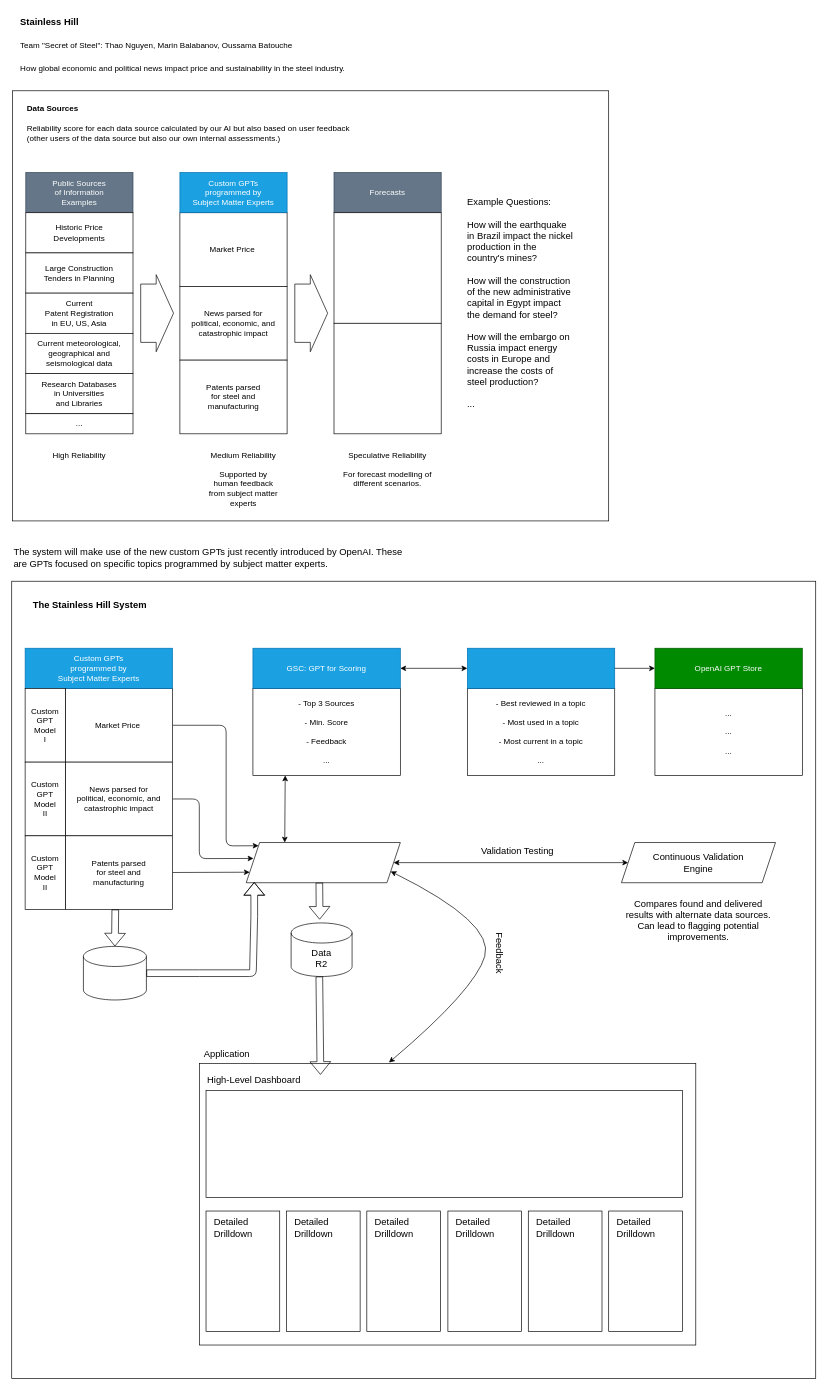
Image size: 827x1390. Some labels were removed from this diagram. The shapes that lost their labels are listed below. From the top down, each one's centre as x and y in pixels, then its label:
[387,267]: Price Development Forecast
[387,378]: Economic and technological forecast
[541,668]: GSL: GPT for Selection Selects possible alternate GPTs
[323,862]: Orchestration Engine
[114,973]: Data R1
